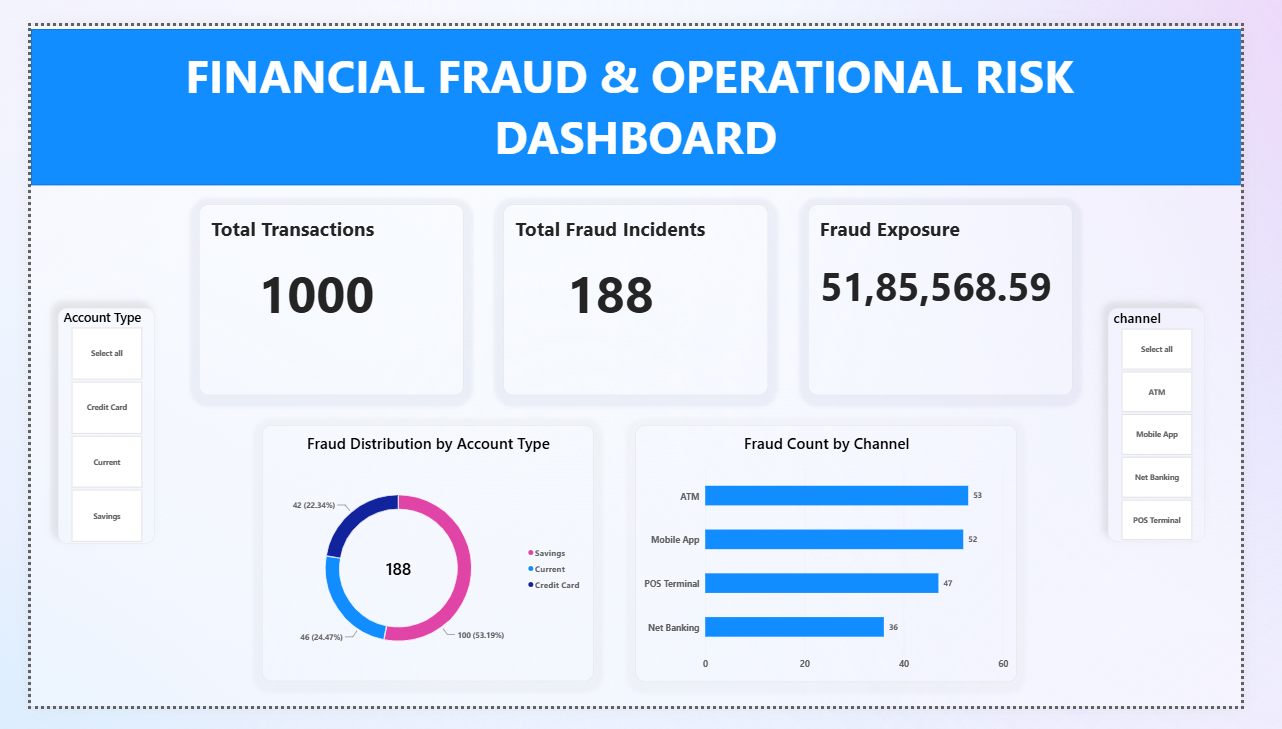

Layout of this report page (visuals, bound fields, positions):
{"tool":"powerbi","page":{"name":"Page 1","canvas":[1920,1080],"ordinal":0},"visuals":[{"type":"tableEx","fields":{"Values":["Sum(bank_fraud_data.transaction_amount)"]},"box":[1232.5,282.5,420,302.5],"z":2000},{"type":"donutChart","title":"Fraud Distribution by Account Type","fields":{"Category":["bank_fraud_data.account_type"],"Y":["Sum(bank_fraud_data.is_fraud)"]},"box":[367.5,632.5,526.7,406.7],"z":3000},{"type":"clusteredBarChart","title":"Fraud Count by Channel","fields":{"Category":["bank_fraud_data.channel"],"Y":["Sum(bank_fraud_data.is_fraud)"]},"box":[960,632.5,605.6,407.8],"z":4000},{"type":"slicer","fields":{"Values":["bank_fraud_data.account_type"]},"box":[42.5,447.5,153,374],"z":5000},{"type":"slicer","fields":{"Values":["bank_fraud_data.channel"]},"box":[1710,447.5,153,371.6],"z":6000},{"type":"tableEx","fields":{"Values":["Sum(bank_fraud_data.is_fraud)"]},"box":[750,282.5,420,302.5],"z":7000},{"type":"tableEx","fields":{"Values":["bank_fraud_data.customer_id"]},"box":[267.5,282.5,420,302.5],"z":8000},{"type":"shape","box":[0,5.7,1920,248],"z":8500},{"type":"textbox","box":[0,28.4,1920,202.5],"z":9000}]}

Visuals, with their boxes in screenshot pixels (x1, y1, x2, y2), scaled from the page's 1920x1080 canvas onto the 1282x729 screenshot:
tableEx - Sum(bank_fraud_data.transaction_amount): (x1=823, y1=191, x2=1103, y2=395)
"Fraud Distribution by Account Type" donutChart: (x1=245, y1=427, x2=597, y2=701)
"Fraud Count by Channel" clusteredBarChart: (x1=641, y1=427, x2=1045, y2=702)
slicer - bank_fraud_data.account_type: (x1=28, y1=302, x2=131, y2=555)
slicer - bank_fraud_data.channel: (x1=1142, y1=302, x2=1244, y2=553)
tableEx - Sum(bank_fraud_data.is_fraud): (x1=501, y1=191, x2=781, y2=395)
tableEx - bank_fraud_data.customer_id: (x1=179, y1=191, x2=459, y2=395)
shape: (x1=0, y1=4, x2=1281, y2=171)
textbox: (x1=0, y1=19, x2=1281, y2=156)
